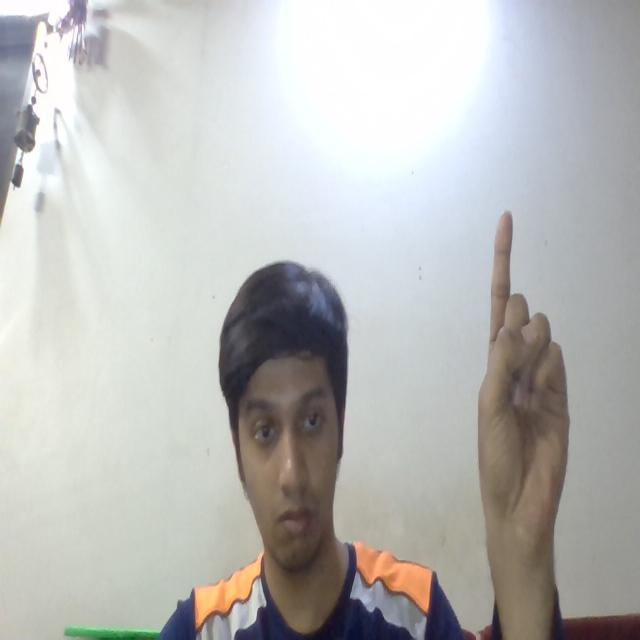Z: (467, 200, 587, 560)
